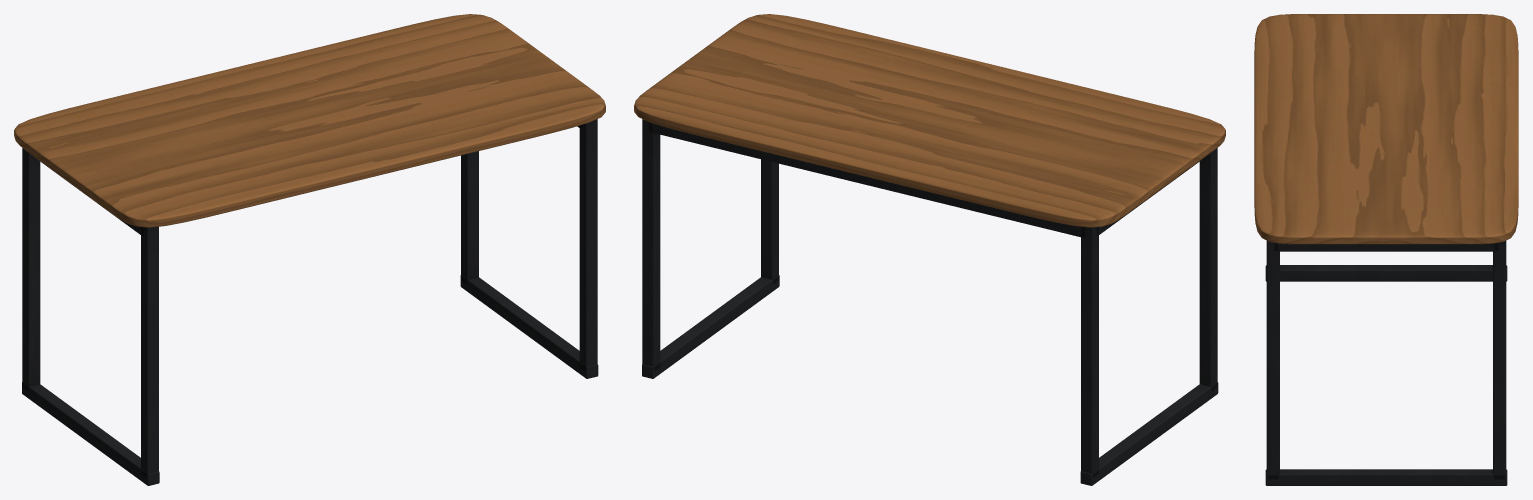
The model's file is industrial-frame.glb.
The picture shows the model from 3 angles, left to right: view 1: azimuth 30°, elevation 25°; view 2: azimuth 150°, elevation 25°; view 3: azimuth 270°, elevation 25°; orthographic projection. The views are drawn at different scales.
Visible parts, largest first — view 1: wood_x, metal_frame; view 2: wood_x, metal_frame; view 3: wood_x, metal_frame.
Part boxes in pixels (x1,y1,x2,y2): wood_x: (14, 14, 605, 227); metal_frame: (22, 119, 598, 485); wood_x: (634, 14, 1225, 227); metal_frame: (642, 119, 1218, 485); wood_x: (1254, 14, 1518, 244); metal_frame: (1265, 241, 1507, 485).
Size of the model in its own units: 1.4 by 0.7525 by 0.7.
Materials: 2 (2 with a texture image).
